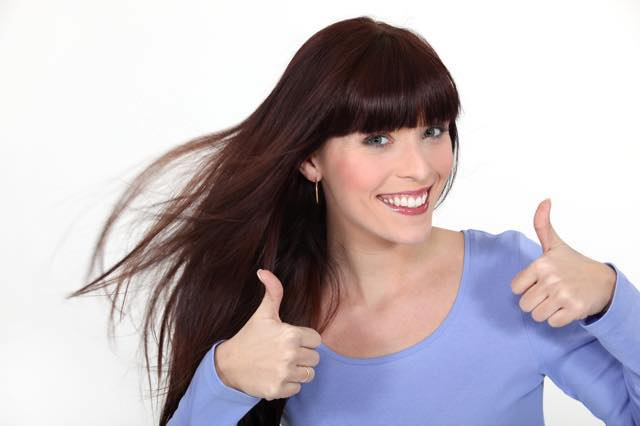face: (300, 105, 460, 244)
hand: (214, 269, 320, 401), (511, 196, 614, 329)
